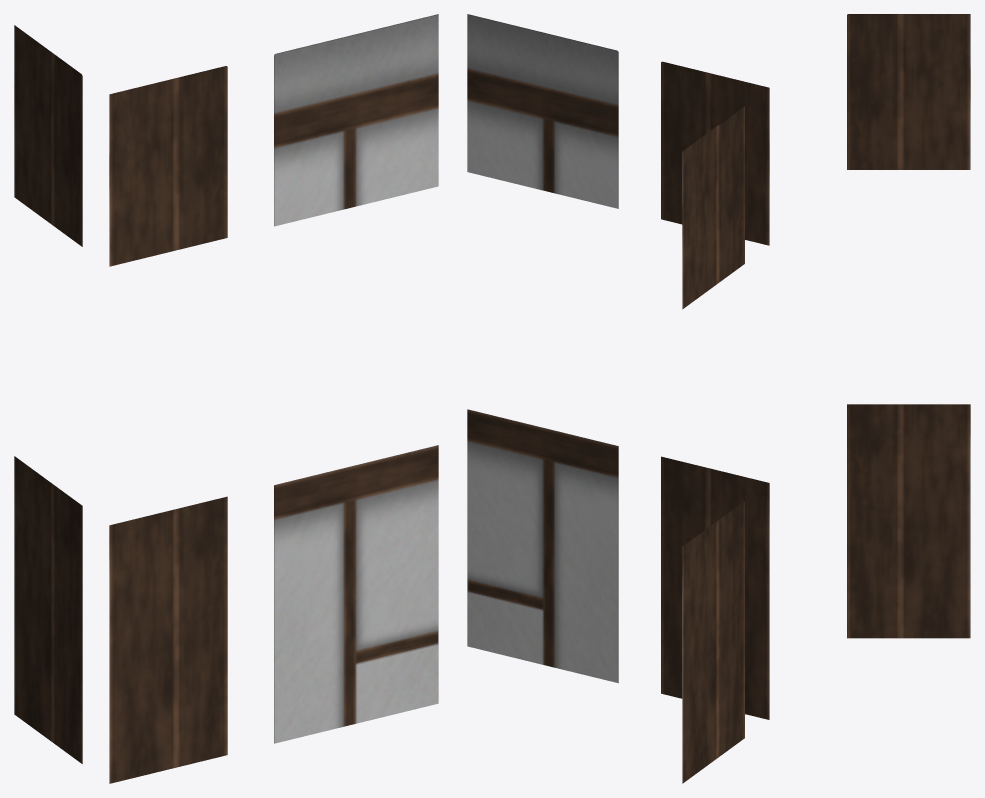
The model's file is house_wall_window_b_corner_1_inside.fbx.
3 renders of one model, left to right at view 1: azimuth 30°, elevation 25°; view 2: azimuth 150°, elevation 25°; view 3: azimuth 270°, elevation 25°, orthographic. The views are drawn at different scales.
Visible parts, largest first — view 1: house_wall_window_b_corner_1_inside; view 2: house_wall_window_b_corner_1_inside; view 3: house_wall_window_b_corner_1_inside.
Boxes of the visible parts, x1,y1,x2,y2 form: house_wall_window_b_corner_1_inside: [14, 14, 438, 783]; house_wall_window_b_corner_1_inside: [467, 14, 769, 783]; house_wall_window_b_corner_1_inside: [847, 14, 970, 638].
Bounding box in the file's own units: 200 × 400 × 100.
